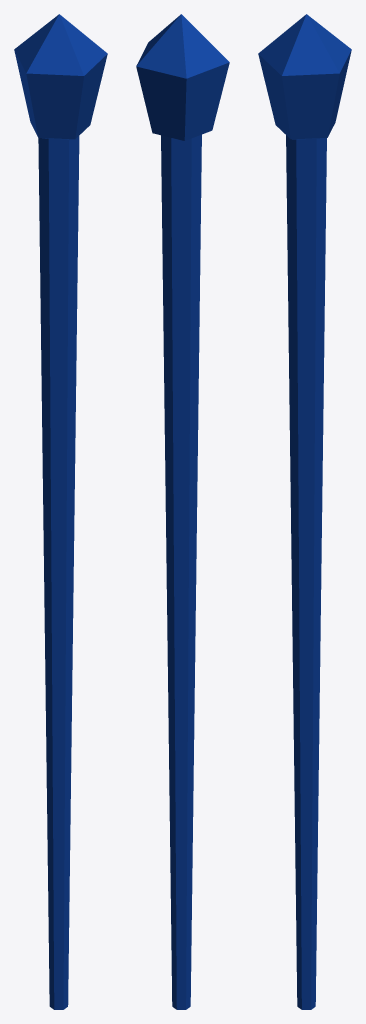
The model's file is staff.obj.
The picture shows the model from 3 angles, left to right: view 1: azimuth 30°, elevation 25°; view 2: azimuth 150°, elevation 25°; view 3: azimuth 330°, elevation 25°; orthographic projection.
Parts seen in each view (by area): view 1: Wizard_Plane.002; view 2: Wizard_Plane.002; view 3: Wizard_Plane.002.
Part boxes in pixels (x1=…): Wizard_Plane.002: x1=14, y1=14, x2=107, y2=1009; Wizard_Plane.002: x1=136, y1=14, x2=229, y2=1009; Wizard_Plane.002: x1=258, y1=14, x2=351, y2=1009.
Bounding box in the file's own units: 0.1514 × 1.76 × 0.144.
